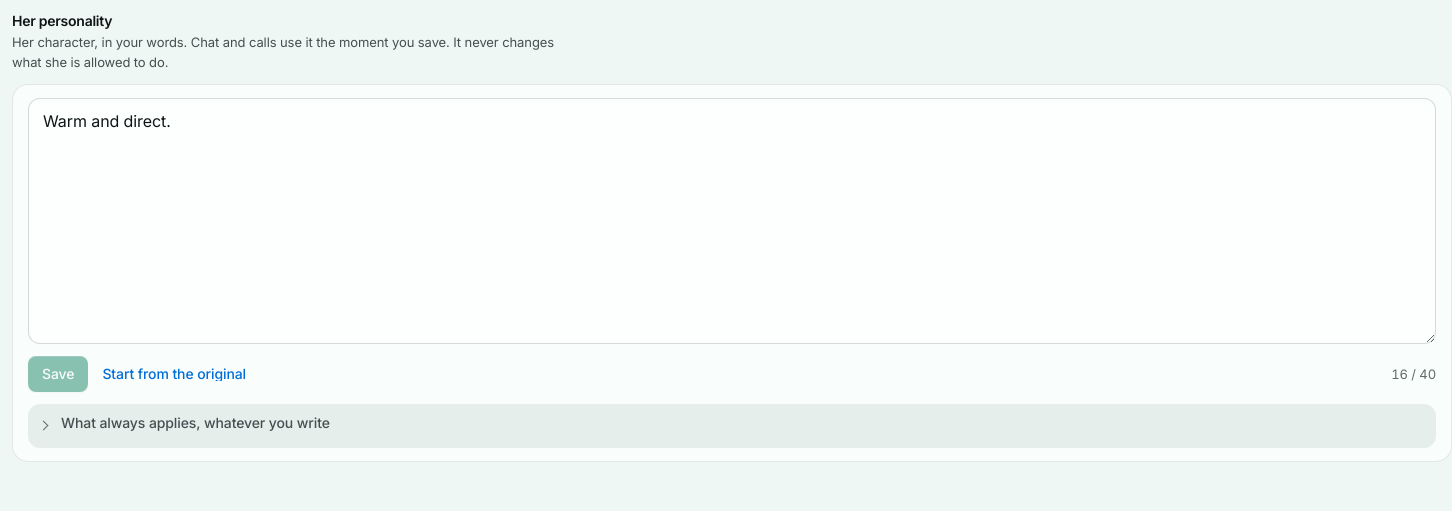
Test: her personality › saves with Ctrl+S and says so, then shows the saved text
Type " Brief." into the text box named "Personality".
click(732, 221); type(" Brief.")  # box x1=28 y1=98 x2=1436 y2=344
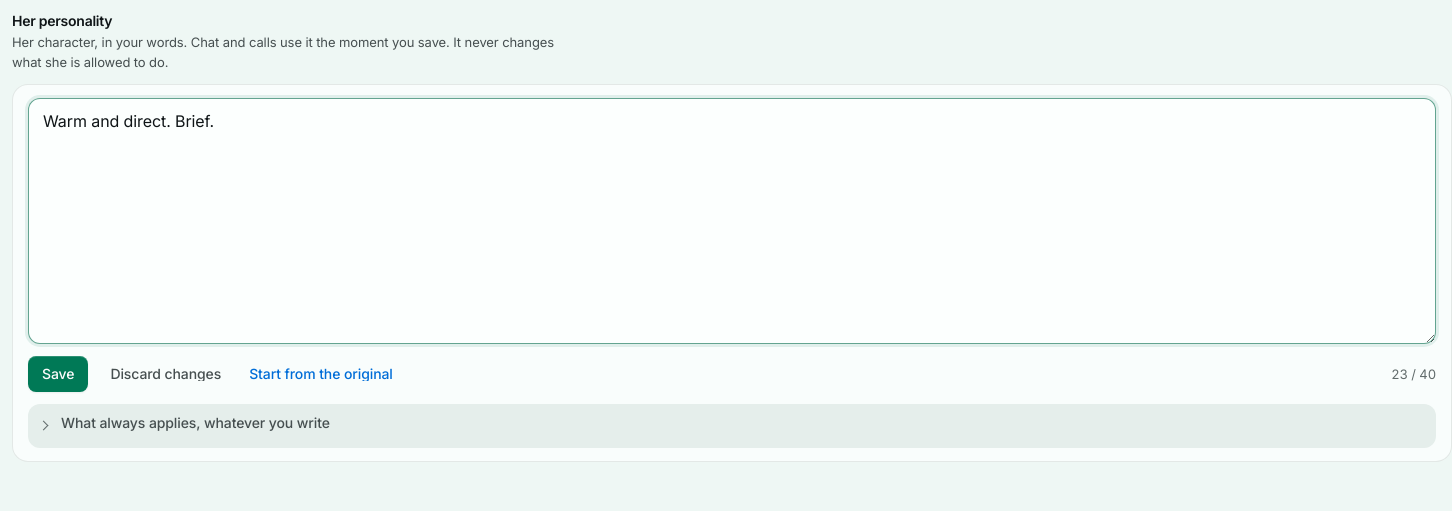
Type keys "{Control>}s{/Control}"
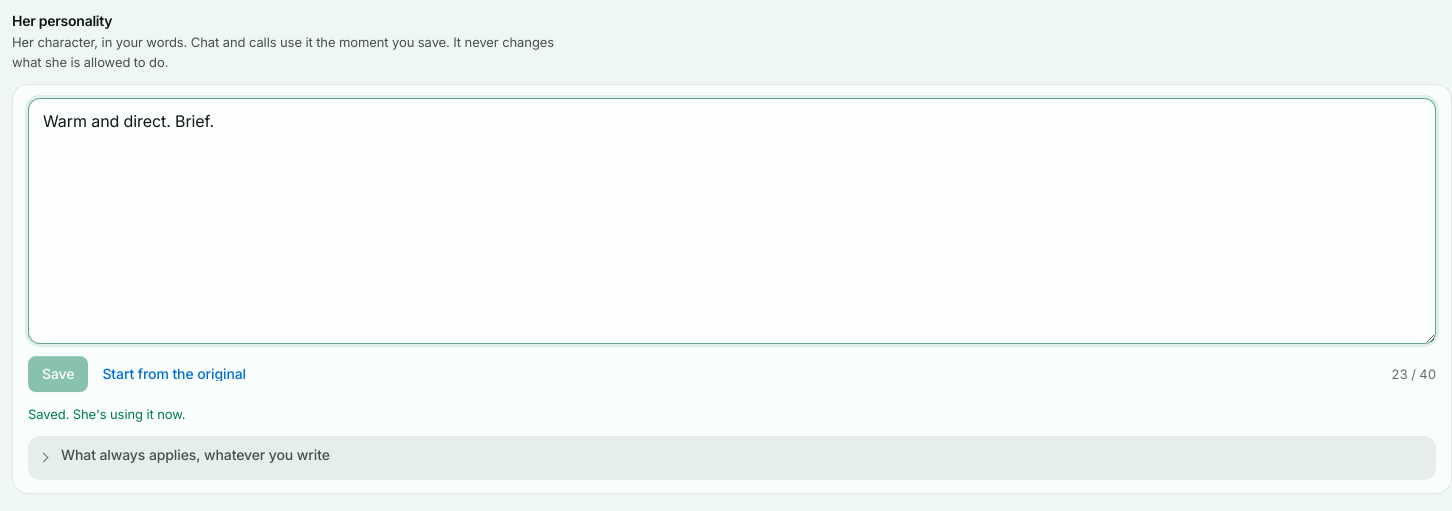
expect the text "Saved. She's using it now." is shown: met, box x1=28 y1=406 x2=186 y2=422
expect the button "Save" is disabled: met, box x1=28 y1=356 x2=88 y2=392
